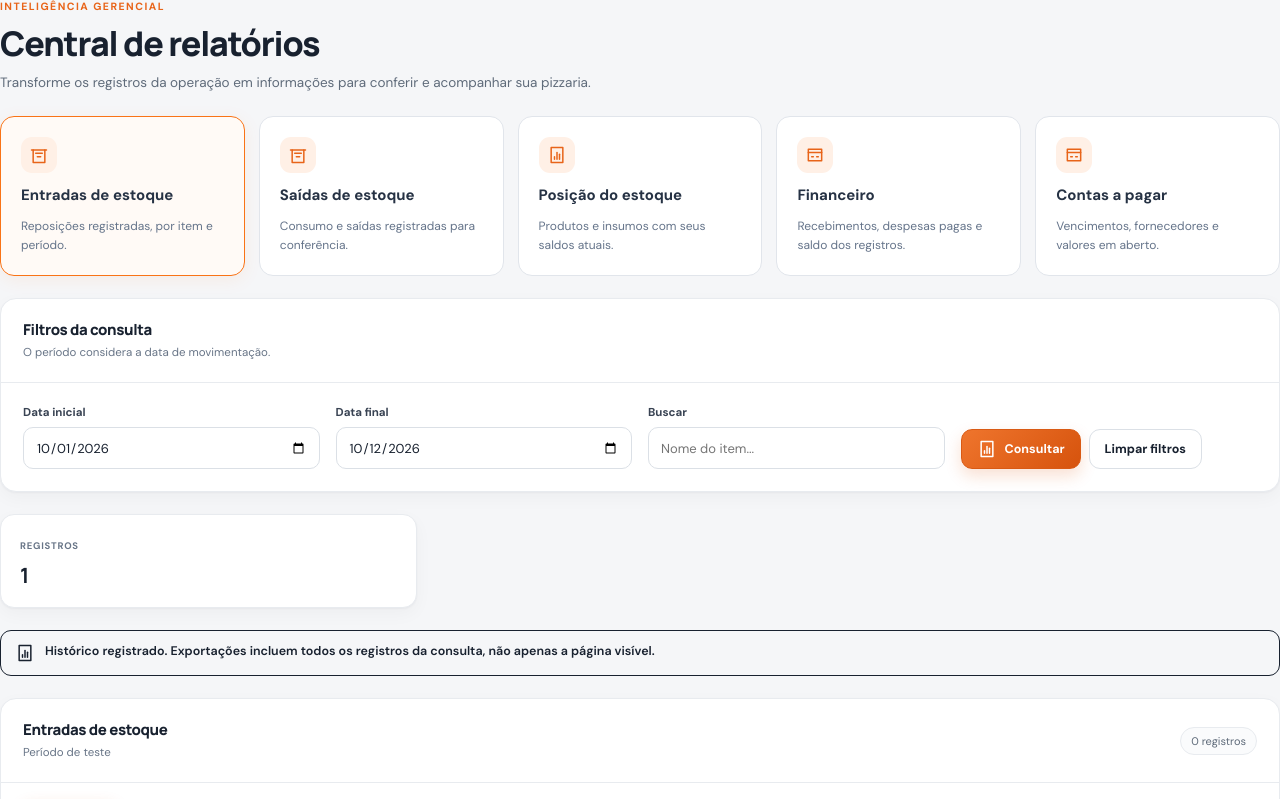
registros vazios podem ser exportados e falhas são exibidas
Click the button "Consultar" at (1021, 449), box x1=960 y1=429 x2=1081 y2=469
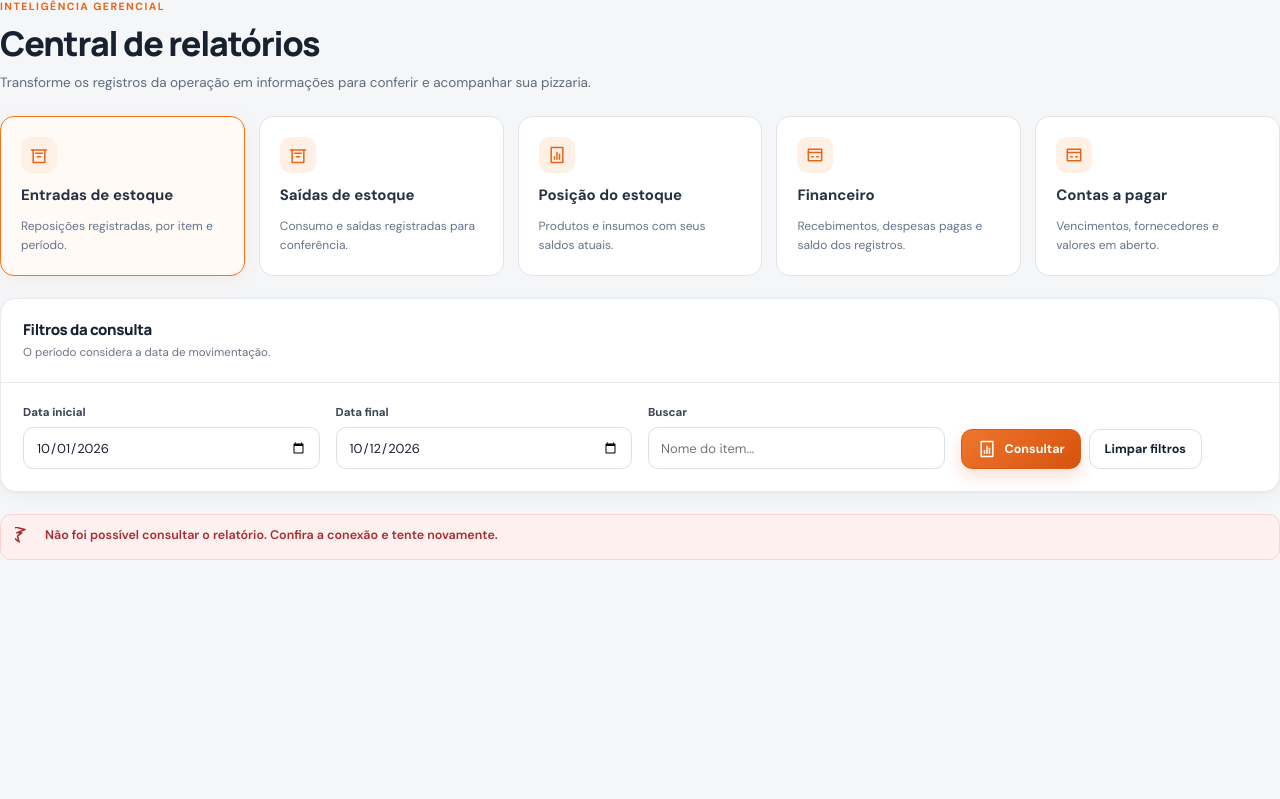
Expected: the message shows "Não foi possível consultar", x1=45 y1=527 x2=498 y2=543
